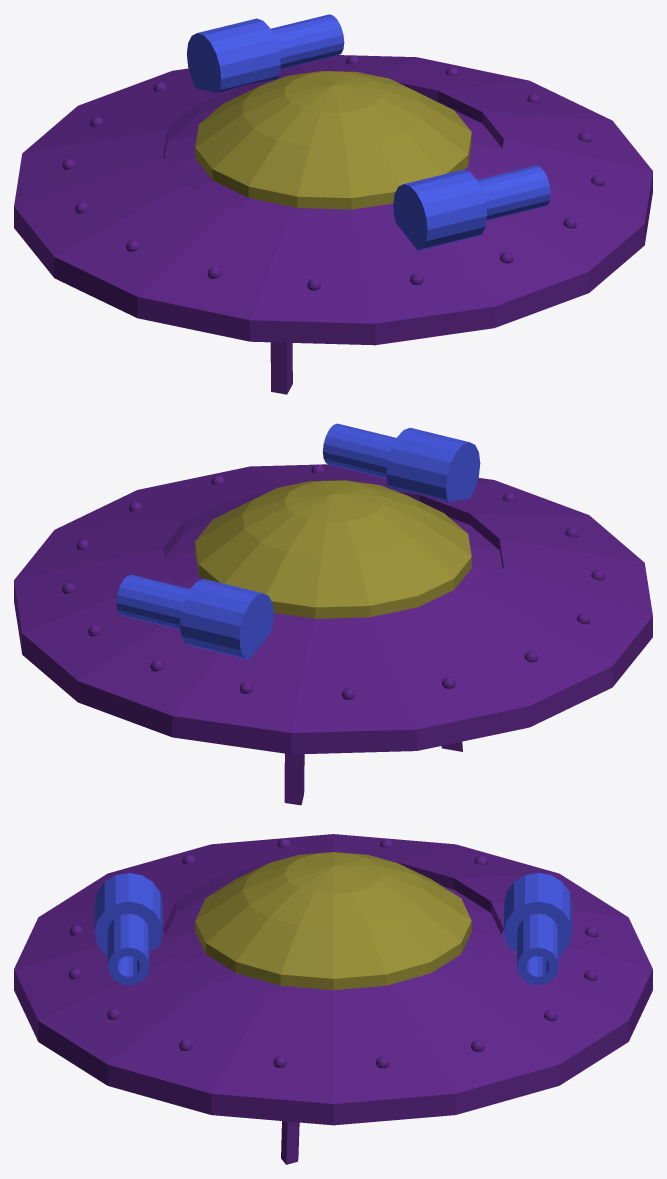
The model's file is ke dich2.fbx.
3 views of the same model, one above another, from view 1: azimuth 30°, elevation 25°; view 2: azimuth 150°, elevation 25°; view 3: azimuth 270°, elevation 25° (orthographic).
Visible parts, largest first — view 1: Circle.001; view 2: Circle.001; view 3: Circle.001.
Boxes of the visible parts, bbox=[...] form: Circle.001: bbox=[14, 14, 652, 394]; Circle.001: bbox=[14, 423, 652, 805]; Circle.001: bbox=[14, 834, 652, 1164].
Bounding box in the file's own units: 1414 × 627 × 1414.
